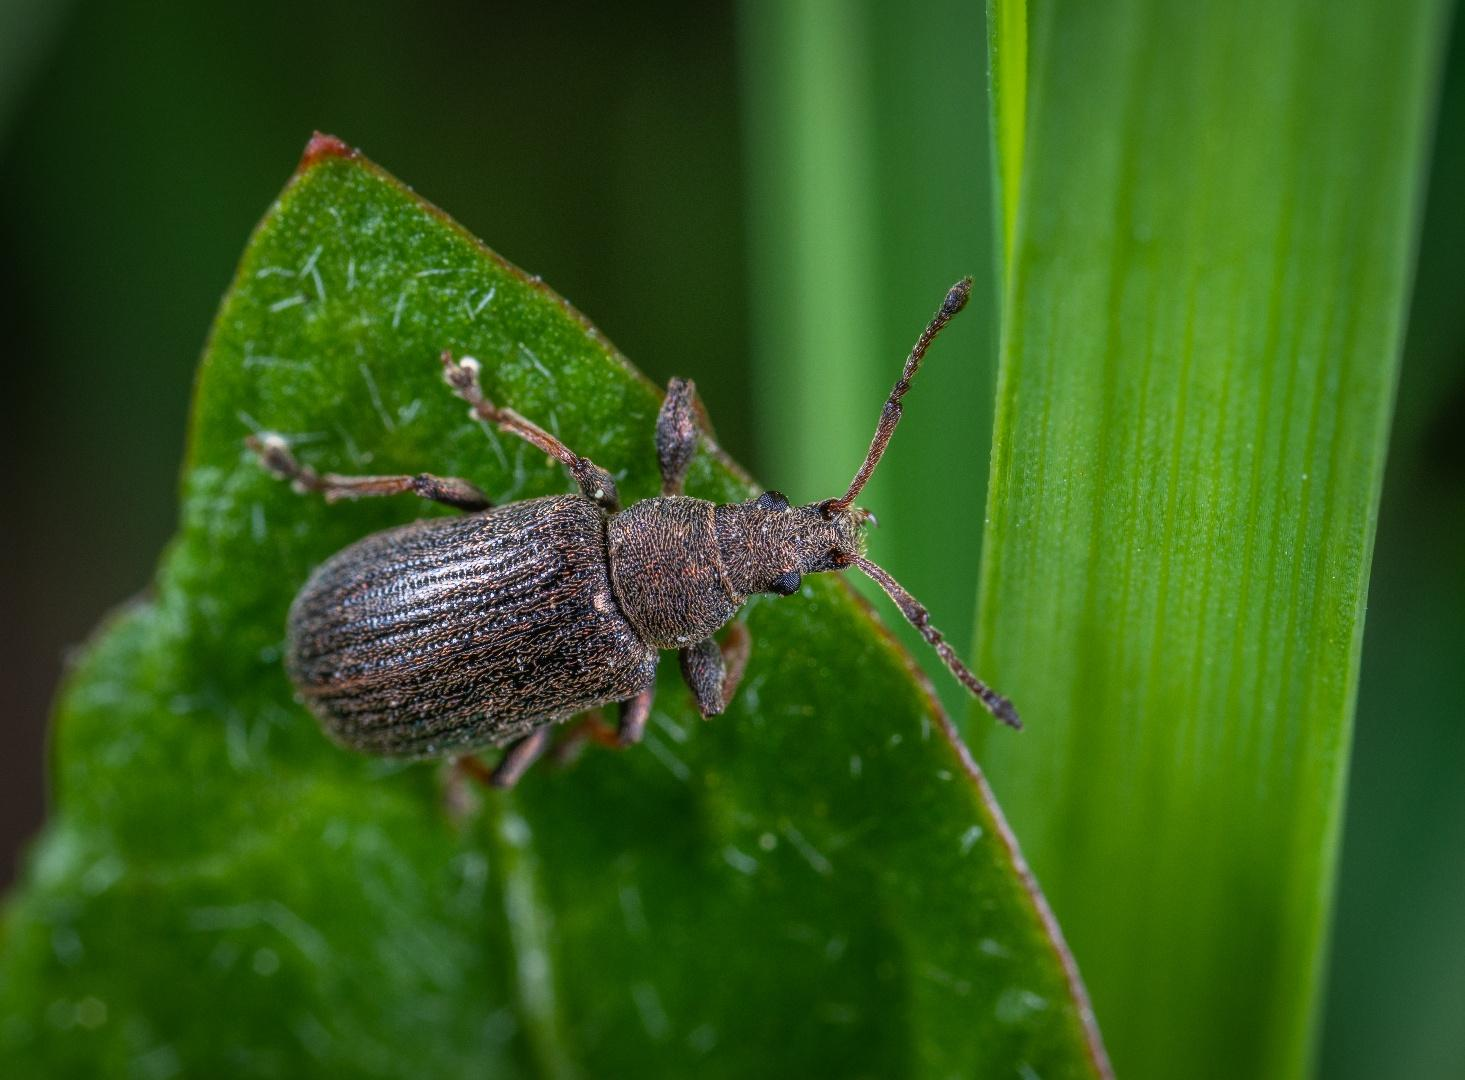clothes: (607, 1075, 1007, 1080)
